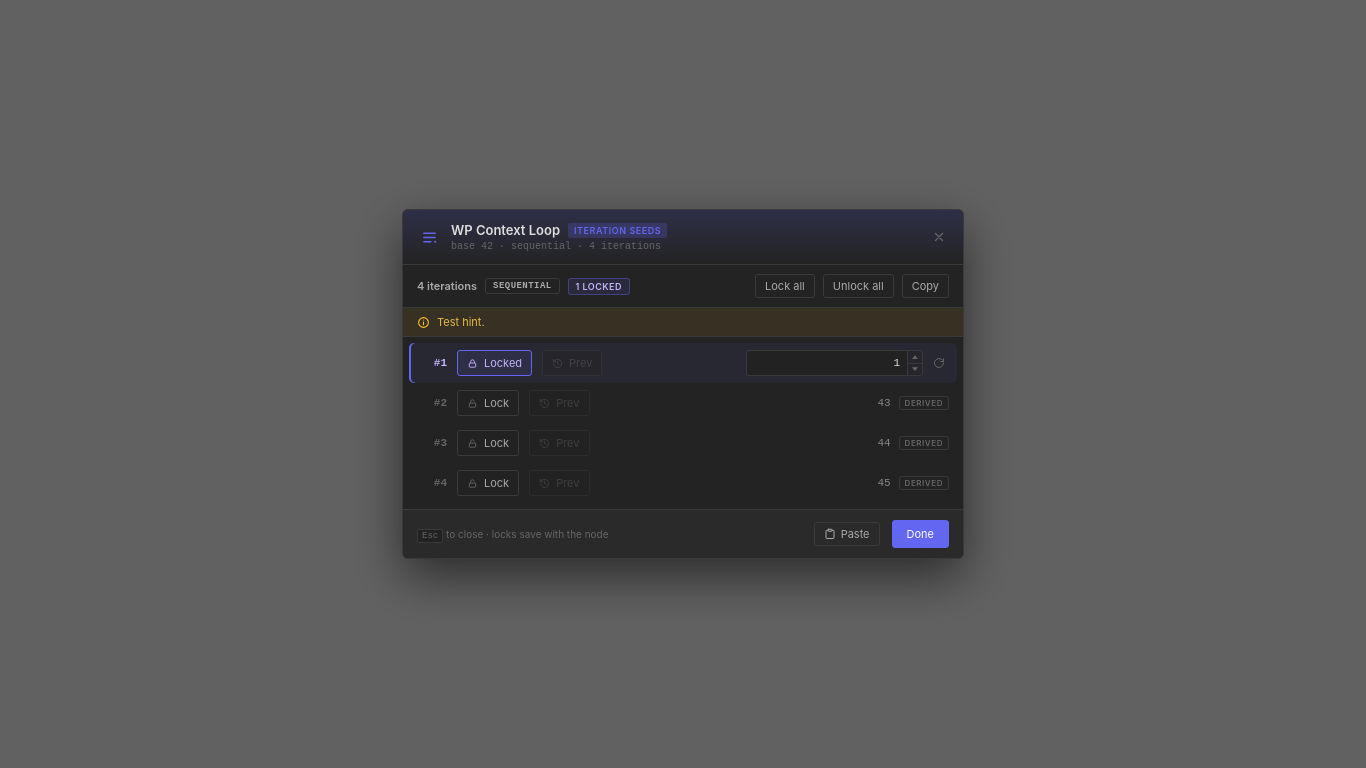
SeedListModal › Paste replaces the whole lock map from the copied text
Step 1. Click the button with test id "mx-seed-paste" → (847, 534), box [814, 522, 880, 546]
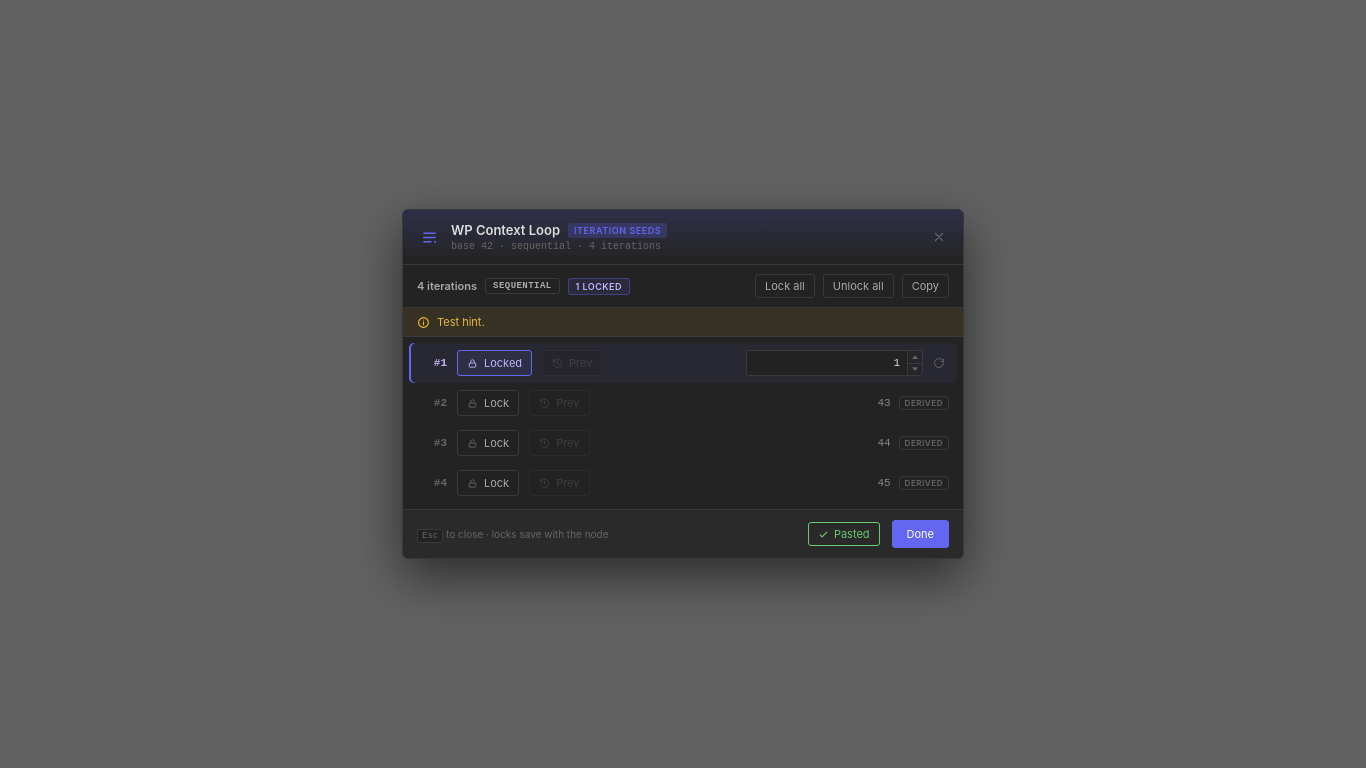
Expected: the button with test id "mx-seed-paste" reads "Pasted", [808, 522, 880, 546]
